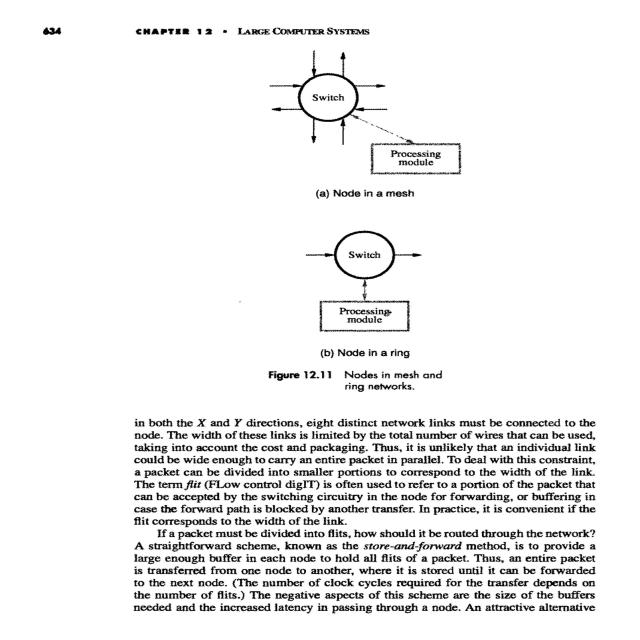diagram: (153, 40, 584, 410)
